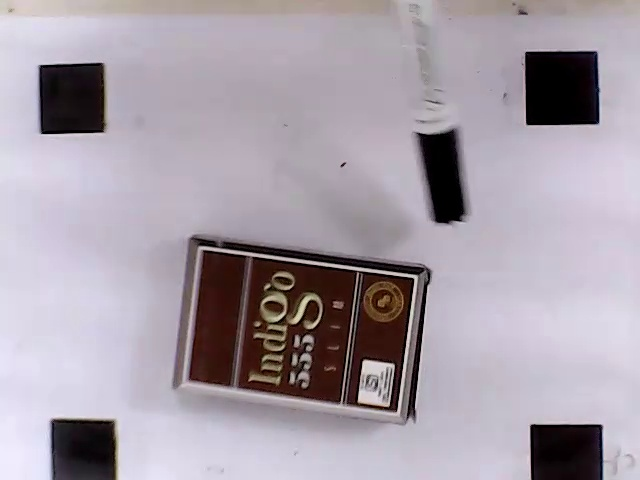BEX: (184, 247, 415, 414)
